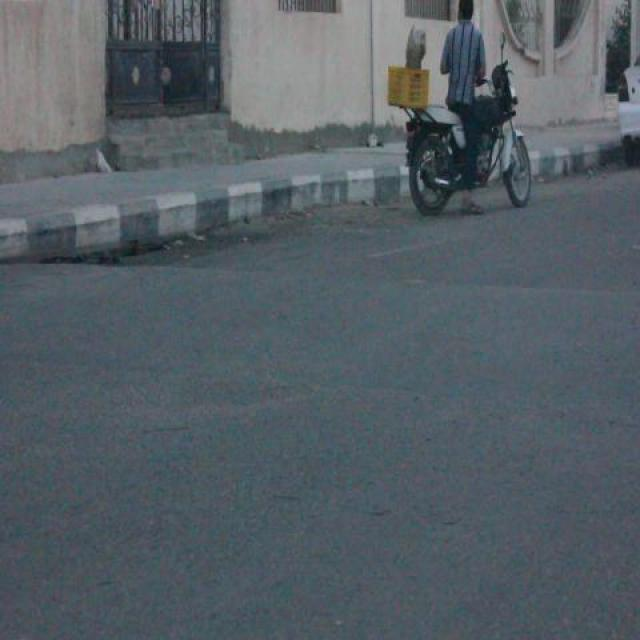Unmarked Bump: (1, 260, 638, 416)
